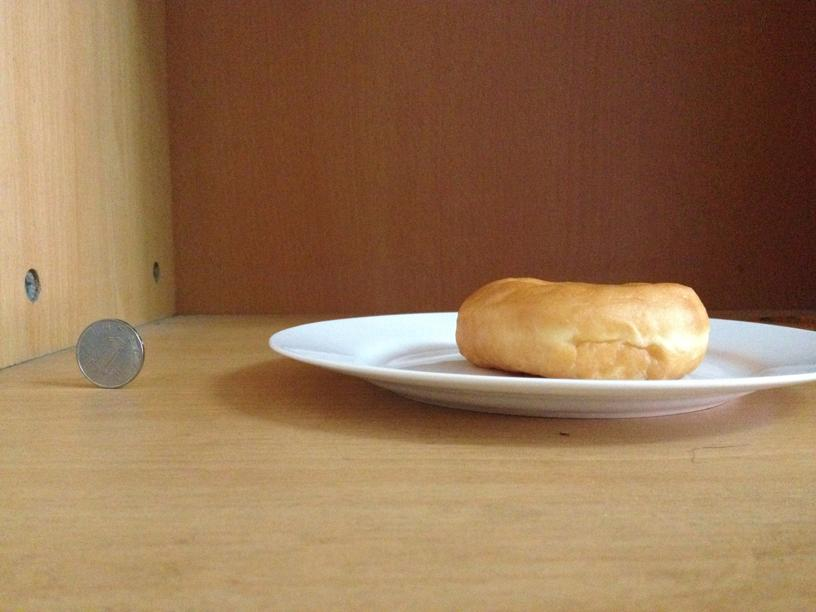coin: (73, 320, 144, 387)
doughnut: (455, 277, 711, 378)
